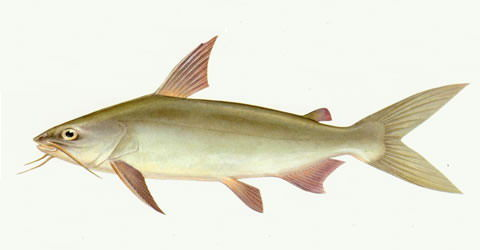fish: (33, 36, 470, 217)
